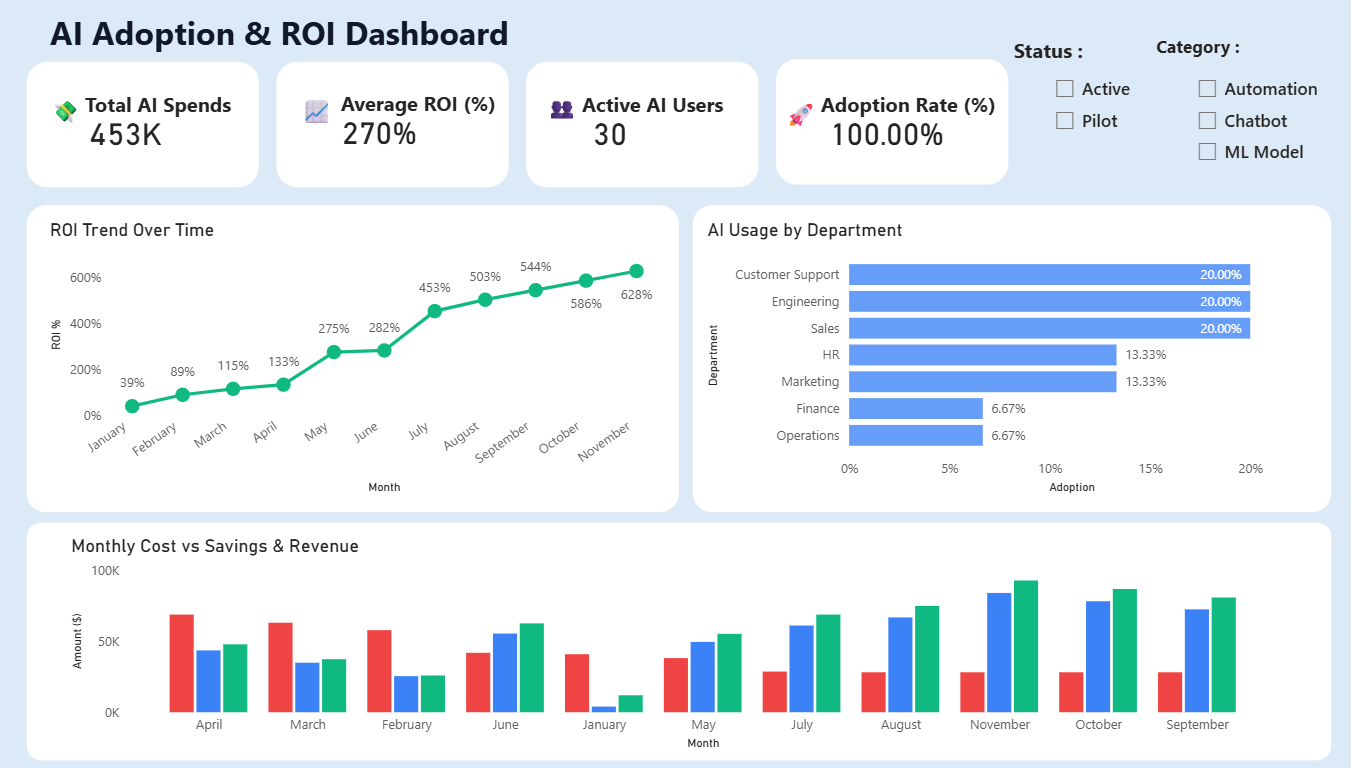

The page's visual inventory and layout, read from the dashboard file:
{"tool":"powerbi","page":{"name":"Page 1","canvas":[1280,720],"ordinal":0},"visuals":[{"type":"card","fields":{"Values":["Measure.Total AI Spend"]},"box":[50,103.5,151.2,51.2],"z":0},{"type":"card","fields":{"Values":["Measure.ROI"]},"box":[291.9,101.2,139.5,53.5],"z":1000},{"type":"card","fields":{"Values":["Measure.Active AI Users"]},"box":[539.5,102.3,73.3,53.5],"z":2000},{"type":"card","fields":{"Values":["Measure.Adoption"]},"box":[769.8,104.7,127.9,47.7],"z":3000},{"type":"lineChart","title":"ROI Trend Over Time","fields":{"Category":["Date_Calendar - Sheet1.MonthName"],"Y":["Measure.ROI"]},"box":[50,209.3,574.4,260.5],"z":4000},{"type":"clusteredColumnChart","title":"Monthly Cost vs Savings & Revenue","fields":{"Category":["Date_Calendar - Sheet1.MonthName"],"Y":["Measure.Total AI Spend","Measure.Total Revenue Increase","Measure.Total saving cost"]},"box":[69.8,503.5,1131.4,204.7],"z":5000},{"type":"barChart","title":"AI Usage by Department","fields":{"Category":["AI Project.Department"],"Y":["Measure.Adoption"]},"box":[661.6,209.3,568.6,260.5],"z":6000},{"type":"textbox","box":[50,10.5,501.2,50],"z":8000},{"type":"slicer","fields":{"Values":["AI Project.Status"]},"box":[977.9,68.6,101.2,107],"z":8002},{"type":"textbox","box":[946.5,34.9,164,44.2],"z":8004},{"type":"slicer","fields":{"Values":["AI Project.Category"]},"box":[1110.5,68.6,143,107],"z":8005},{"type":"textbox","box":[1079.1,32.6,133.7,36],"z":8006},{"type":"textbox","box":[82.6,84.9,158.1,48.8],"z":8007},{"type":"textbox","box":[50,89.5,62.8,60.5],"z":8008},{"type":"textbox","box":[315.1,83.7,168.6,51.2],"z":8009},{"type":"textbox","box":[283.7,89.5,62.8,60.5],"z":8010},{"type":"textbox","box":[539.5,84.9,168.6,51.2],"z":8011},{"type":"textbox","box":[508.1,84.9,62.8,60.5],"z":8012},{"type":"textbox","box":[761.6,84.9,195.3,51.2],"z":8013},{"type":"textbox","box":[730.2,91.9,62.8,60.5],"z":8014}]}

Visuals, with their boxes in screenshot pixels (x1, y1, x2, y2), scaled from the page's 1280x720 canvas onto the 1351x768 screenshot:
card - Measure.Total AI Spend: <box>53,110,212,165</box>
card - Measure.ROI: <box>308,108,455,165</box>
card - Measure.Active AI Users: <box>569,109,647,166</box>
card - Measure.Adoption: <box>812,112,947,163</box>
"ROI Trend Over Time" lineChart: <box>53,223,659,501</box>
"Monthly Cost vs Savings & Revenue" clusteredColumnChart: <box>74,537,1268,755</box>
"AI Usage by Department" barChart: <box>698,223,1298,501</box>
textbox: <box>53,11,582,65</box>
slicer - AI Project.Status: <box>1032,73,1139,187</box>
textbox: <box>999,37,1172,84</box>
slicer - AI Project.Category: <box>1172,73,1323,187</box>
textbox: <box>1139,35,1280,73</box>
textbox: <box>87,91,254,143</box>
textbox: <box>53,95,119,160</box>
textbox: <box>333,89,511,144</box>
textbox: <box>299,95,366,160</box>
textbox: <box>569,91,747,145</box>
textbox: <box>536,91,603,155</box>
textbox: <box>804,91,1010,145</box>
textbox: <box>771,98,837,163</box>
